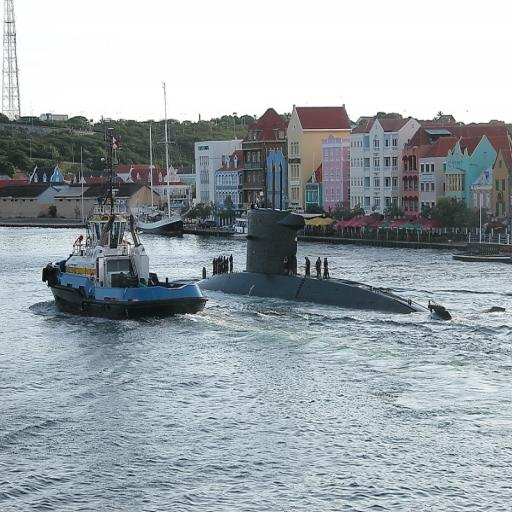submarine: (200, 159, 453, 317)
